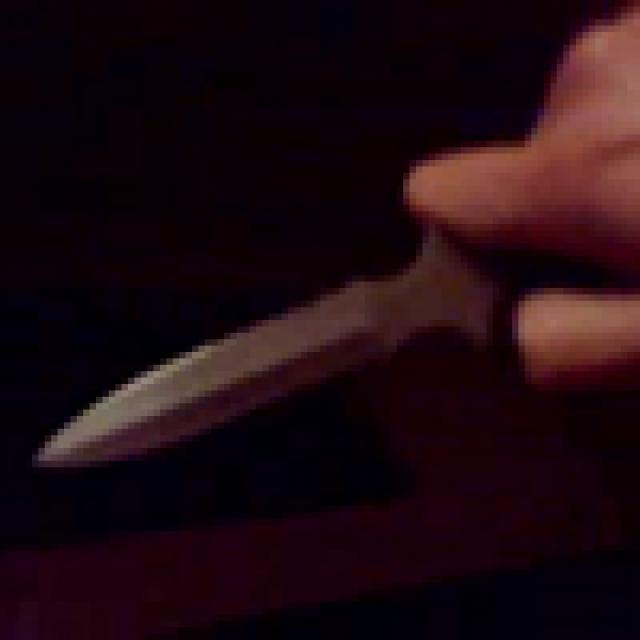Knife_Handle: (38, 64, 640, 467)
